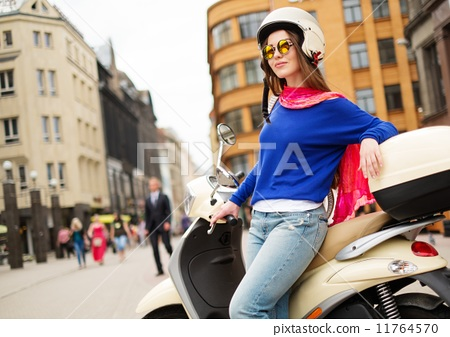helmet: (255, 8, 325, 63)
